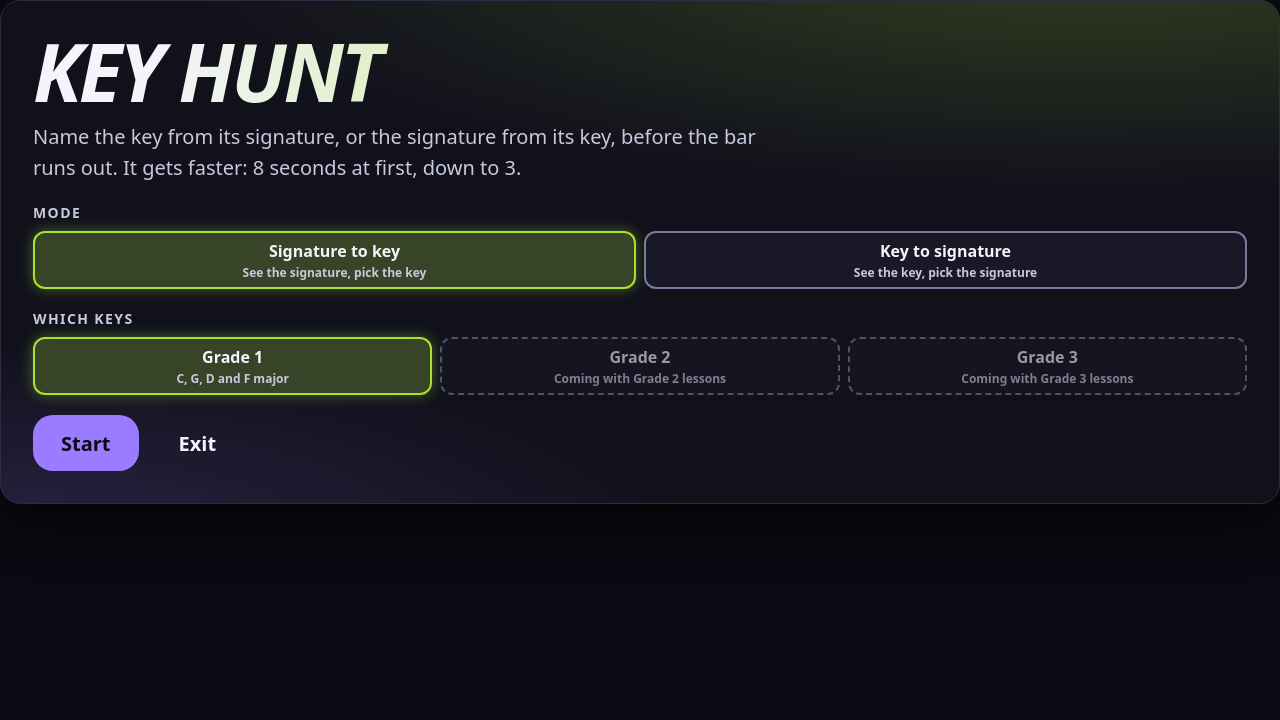
Scenario: start screen › shows the best for the chosen mode
This screenshot has width=1280, height=720.
expect the text "Best score" is not shown: met
Click the radio button labelled "Key to signature See the key, pick the signature": coordinates (946, 260) [644,231,1247,289]
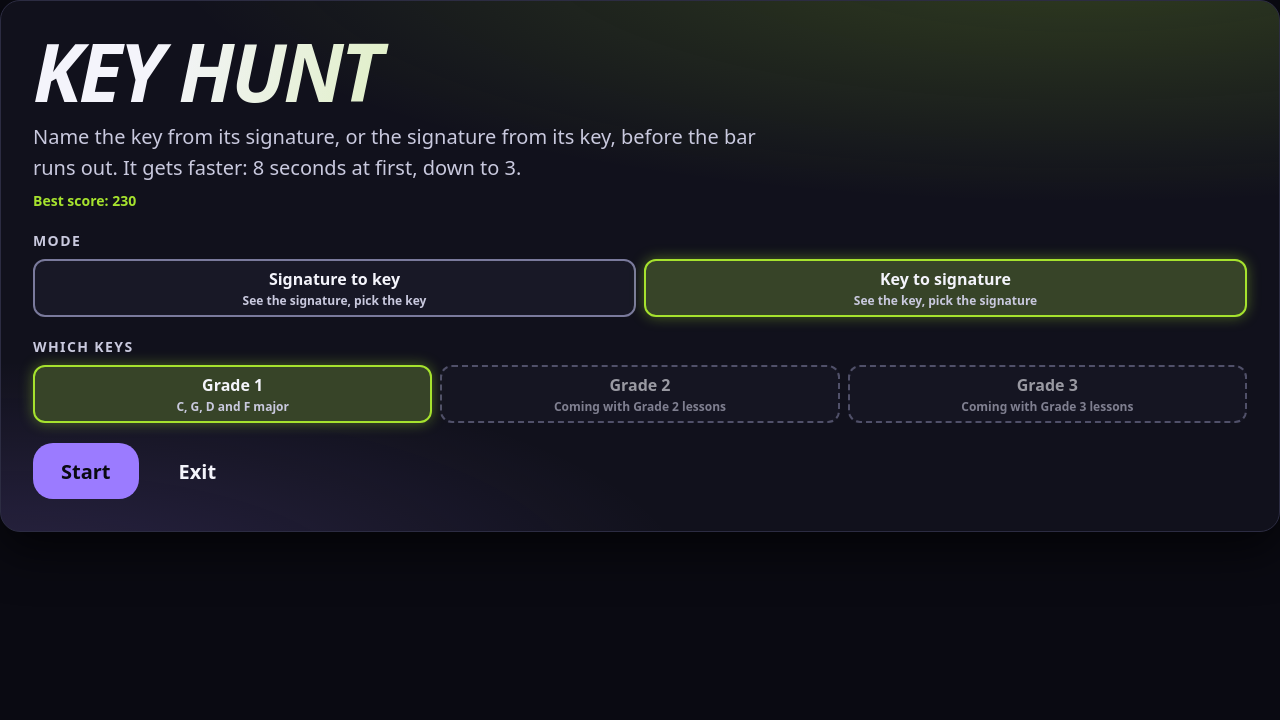
expect the text "Best score: 230" is shown: met, box [33,191,136,210]
